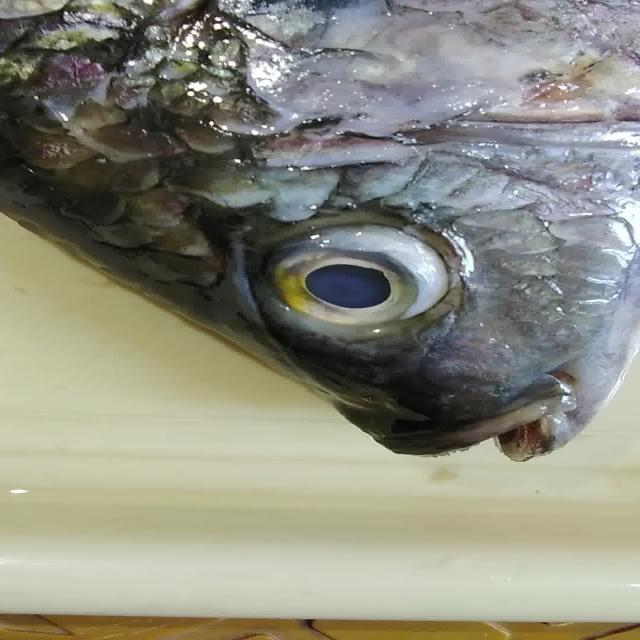Fresh: (225, 201, 497, 341)
